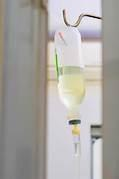Iv_Bottle: (55, 27, 84, 153)
